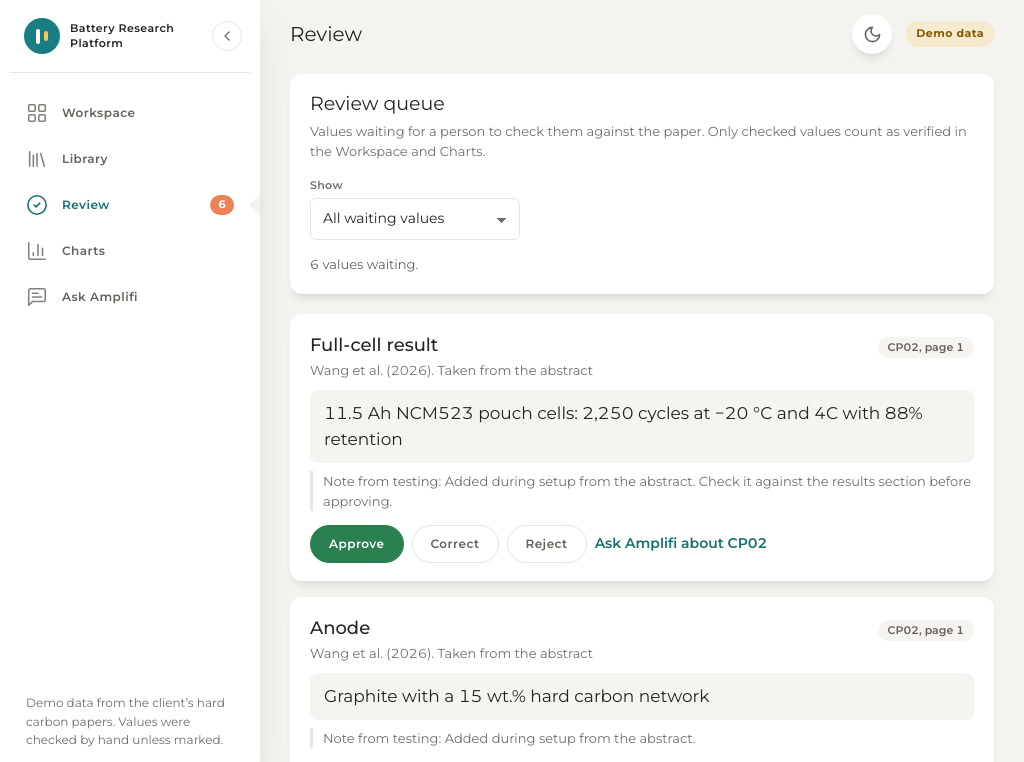
Test: Review › keeps the item and reports the error when saving fails
Step 1. Click the button "Approve" below "Full-cell result" → (357, 544), box [310,525,404,563]
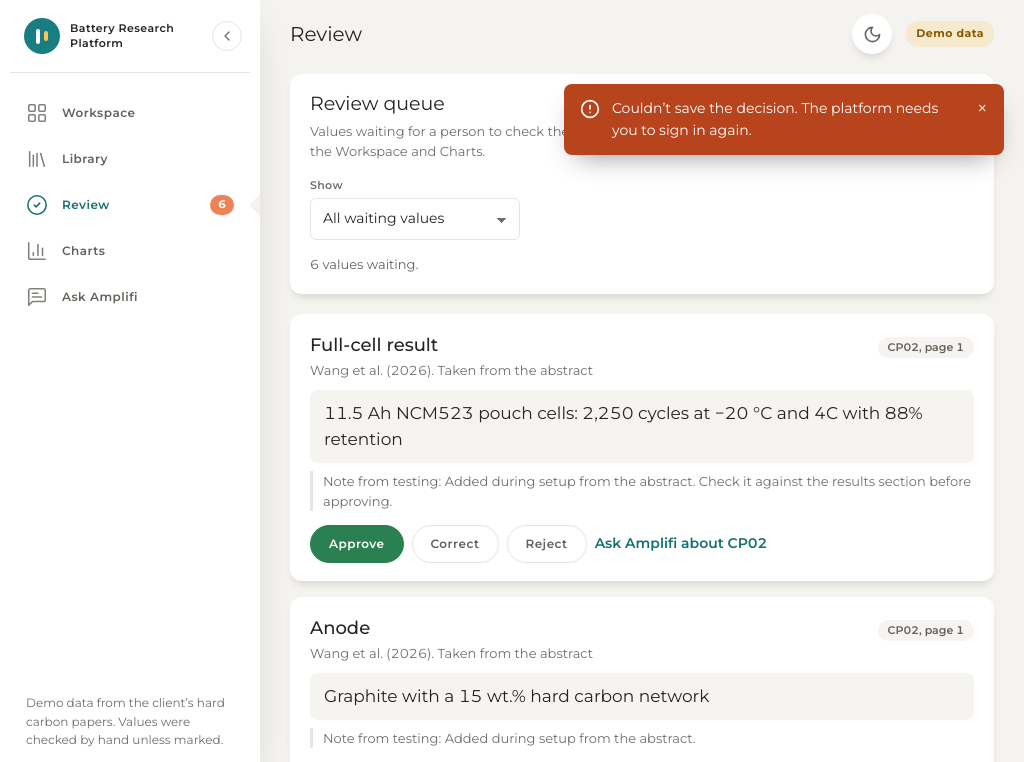
Expected: the text "6 values waiting." is shown, [310,256,418,272]
Expected: the text "Couldn’t save the decision. The platform needs you to sign in again." is shown, [612,98,960,141]
